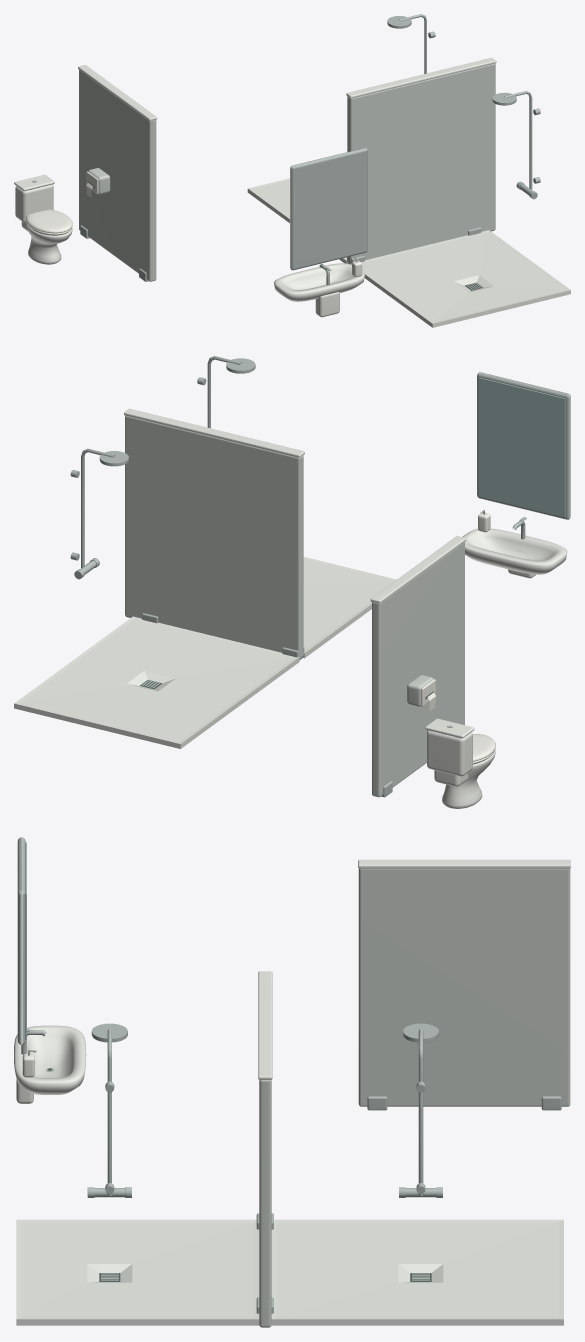
File: bathroom.glb
The picture shows the model from 3 angles, top to bottom: view 1: azimuth 30°, elevation 25°; view 2: azimuth 150°, elevation 25°; view 3: azimuth 270°, elevation 25°; orthographic projection. The views are drawn at different scales.
Visible parts, largest first — view 1: Warm grey partitions — shared batch, Warm white ceramic — shared batch, Satin metal — shared batch, Paper and ivory fittings — shared batch; view 2: Warm grey partitions — shared batch, Warm white ceramic — shared batch, Static mirror glass — shared batch, Satin metal — shared batch, Paper and ivory fittings — shared batch; view 3: Warm white ceramic — shared batch, Warm grey partitions — shared batch, Satin metal — shared batch.
Part boxes in pixels (x1,y1,x2,y2): Warm grey partitions — shared batch: (79, 63, 495, 281); Warm white ceramic — shared batch: (14, 57, 570, 327); Satin metal — shared batch: (32, 14, 540, 289); Paper and ivory fittings — shared batch: (26, 171, 362, 277); Warm grey partitions — shared batch: (125, 415, 464, 797); Warm white ceramic — shared batch: (14, 408, 567, 808); Static mirror glass — shared batch: (479, 377, 565, 517); Satin metal — shared batch: (70, 356, 570, 797); Paper and ivory fittings — shared batch: (421, 513, 495, 763); Warm white ceramic — shared batch: (14, 859, 570, 1325); Warm grey partitions — shared batch: (259, 868, 570, 1327); Satin metal — shared batch: (17, 837, 561, 1313).
Size of the model in its own units: 5.26 by 2.56 by 4.48.
